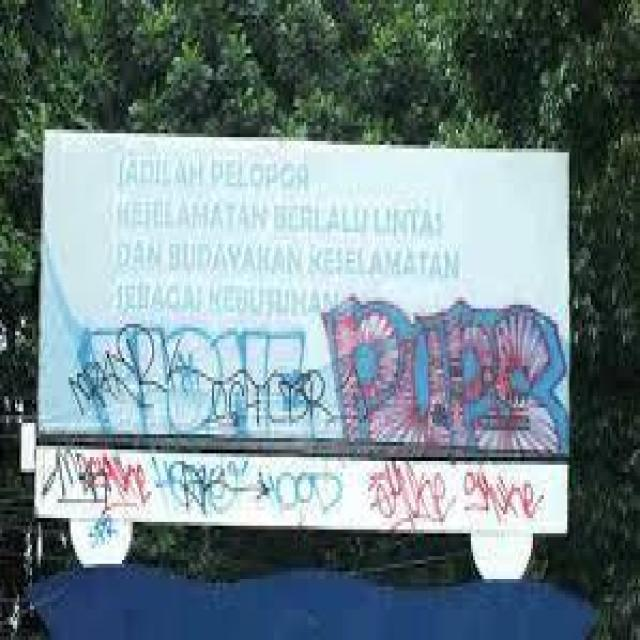nonspitting: (320, 293, 566, 450), (70, 316, 336, 435), (154, 453, 341, 511), (366, 461, 545, 521), (38, 454, 152, 512)
